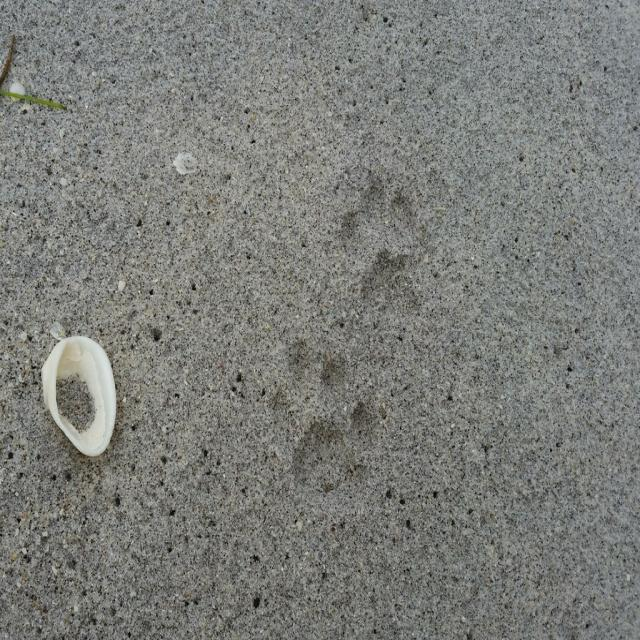felid: (275, 352, 371, 502), (341, 182, 429, 309)
